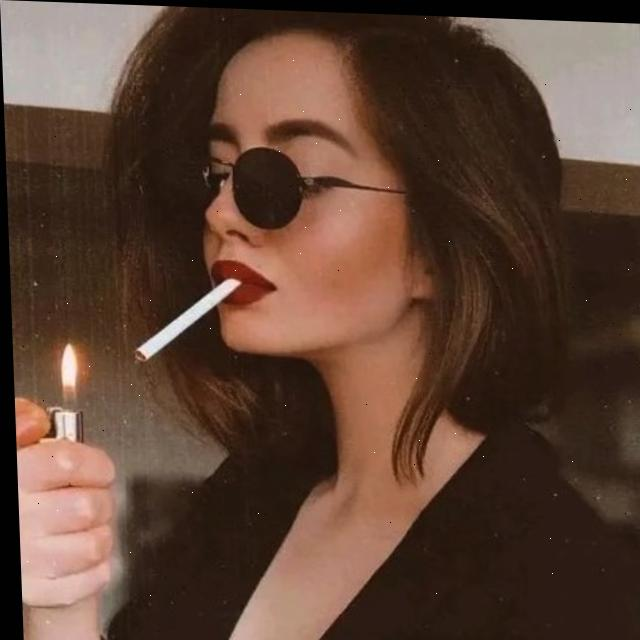cigarette: (127, 272, 243, 364)
